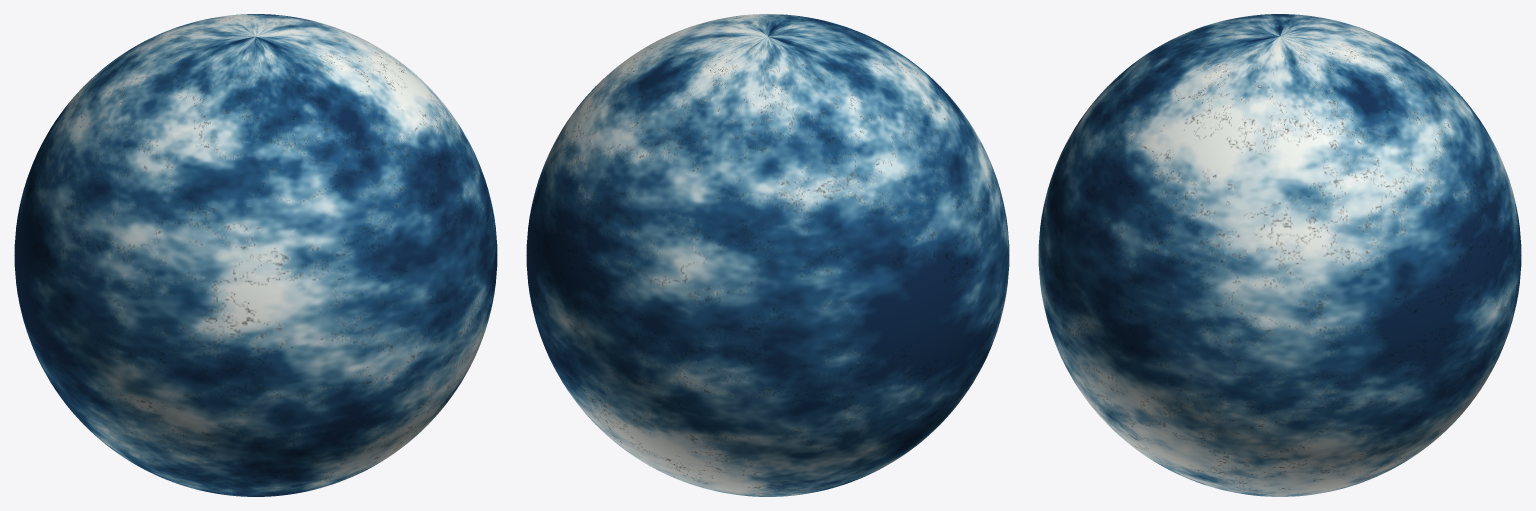
Rendered from ice.glb.
3 views of the same model, side by side, from view 1: azimuth 30°, elevation 25°; view 2: azimuth 150°, elevation 25°; view 3: azimuth 270°, elevation 25° (orthographic).
Visible parts, largest first — view 1: Planet · Ice; view 2: Planet · Ice; view 3: Planet · Ice.
Boxes of the visible parts, <box> form: Planet · Ice: <box>14,14,497,496</box>; Planet · Ice: <box>526,14,1009,496</box>; Planet · Ice: <box>1038,14,1521,496</box>.
Bounding box in the file's own units: 2 × 2 × 2.
1 material, 1 textured.
